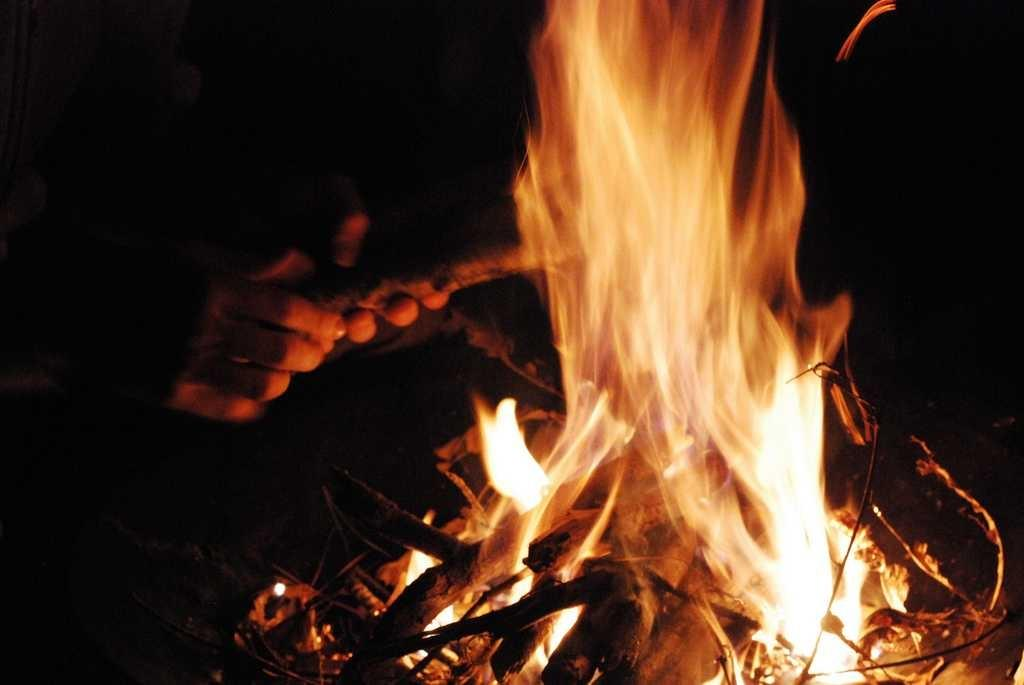fire: (565, 73, 728, 345), (772, 410, 828, 625)
